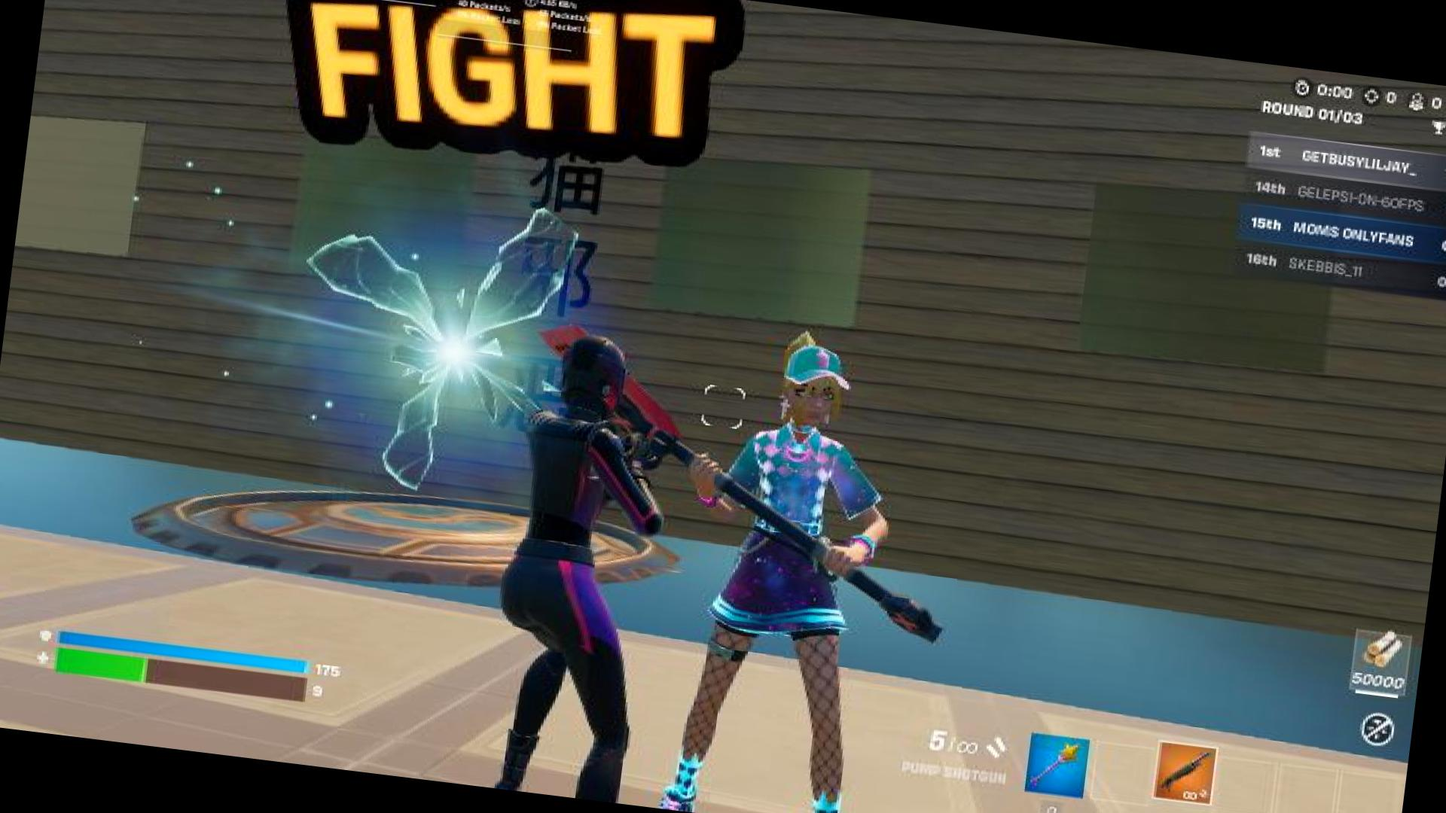player: (634, 326, 956, 813)
